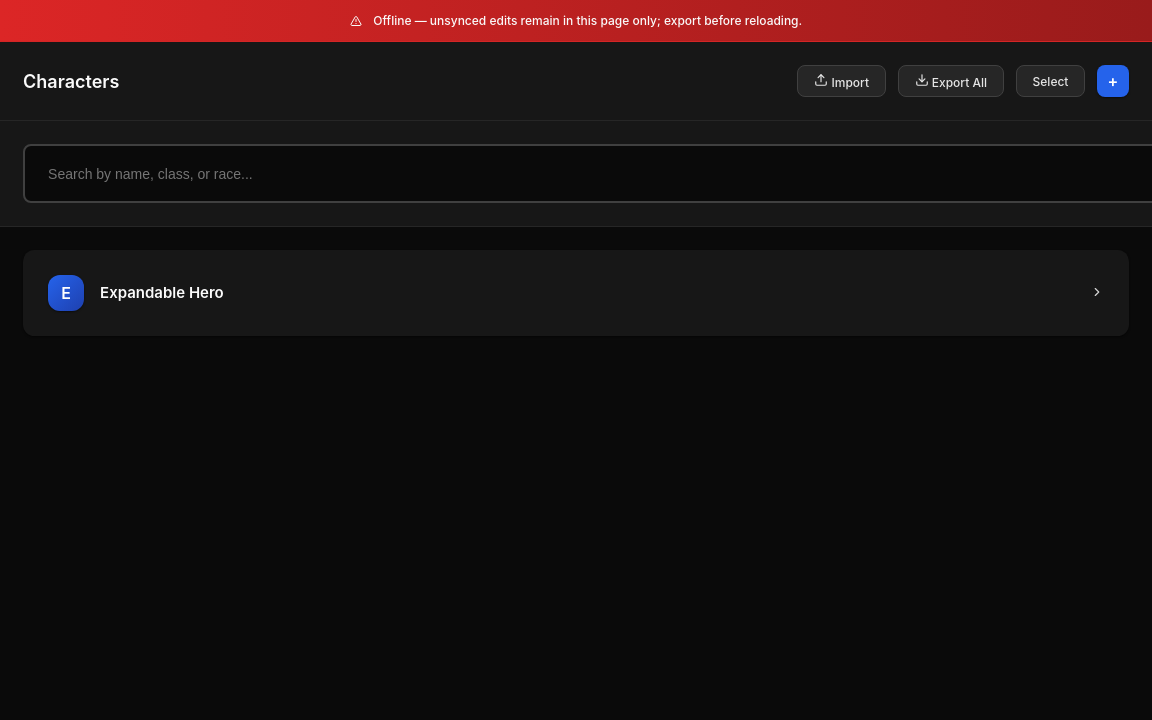
it: CharacterPanel › Character Interaction › allows expanding and collapsing character cards
Click the button with aria-label "expand expandable hero" at (66, 293), box [25,252,1127,334]
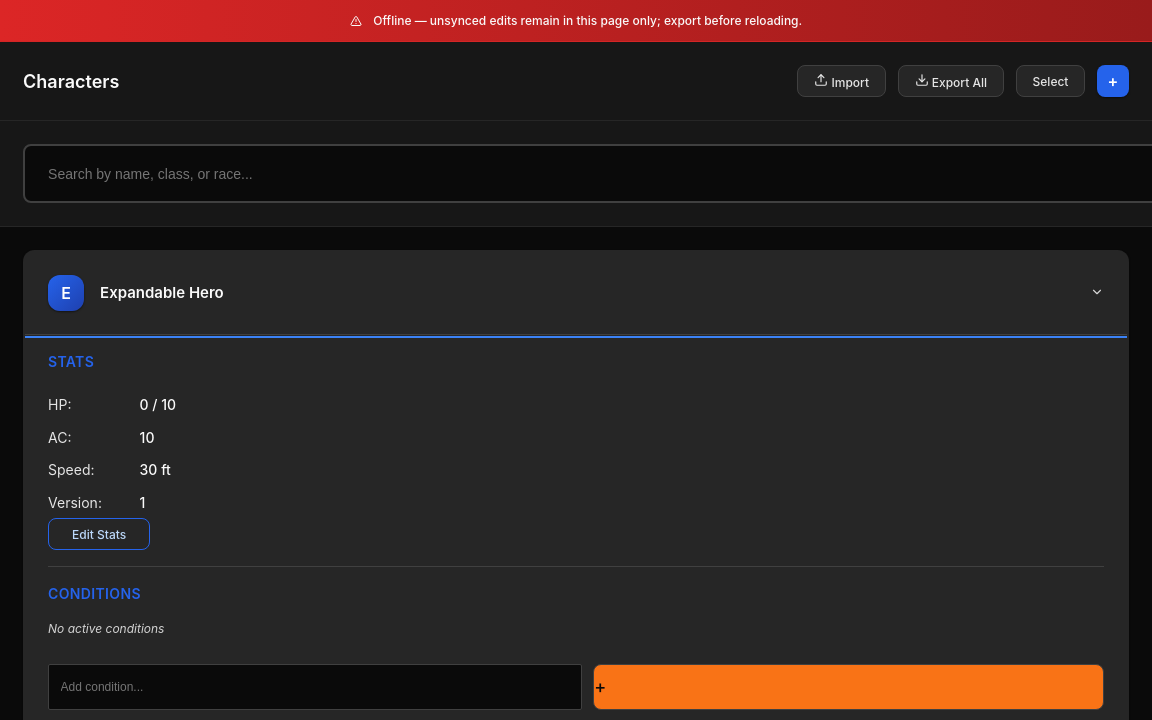
Check: the button with aria-label "collapse expandable hero" is expanded
Click the button with aria-label "collapse expandable hero" at (66, 293), box [25,252,1127,334]
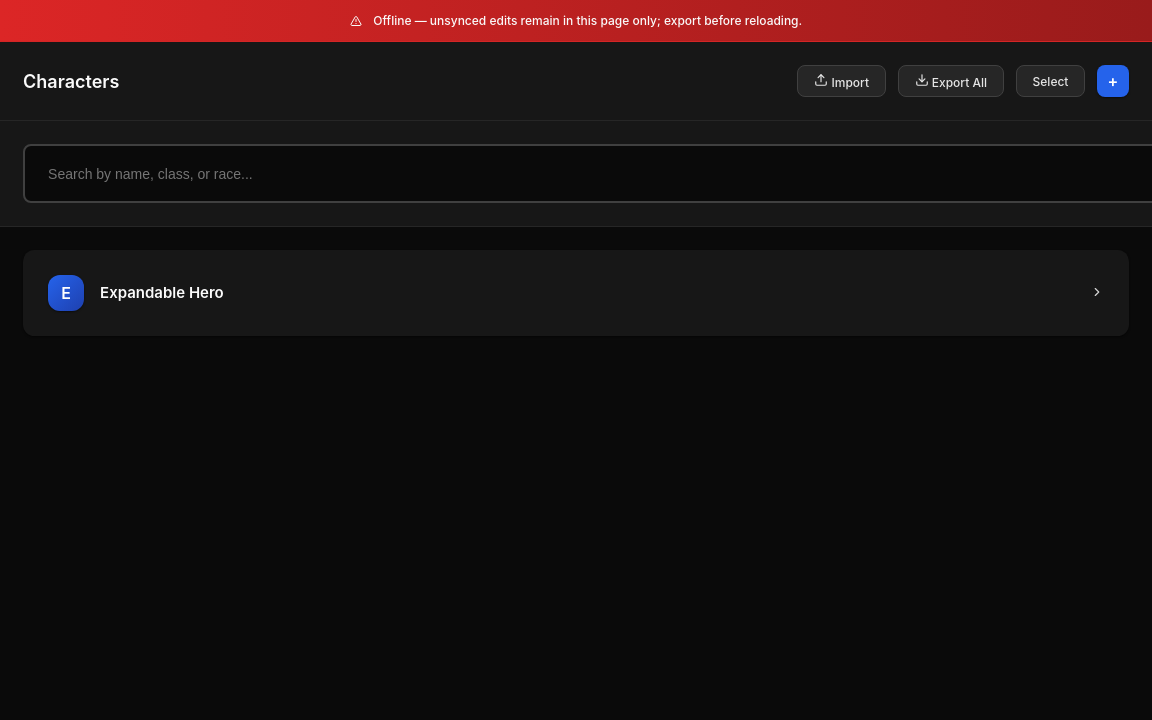
Check: the button with aria-label "expand expandable hero" is collapsed, box [25,252,1127,334]
